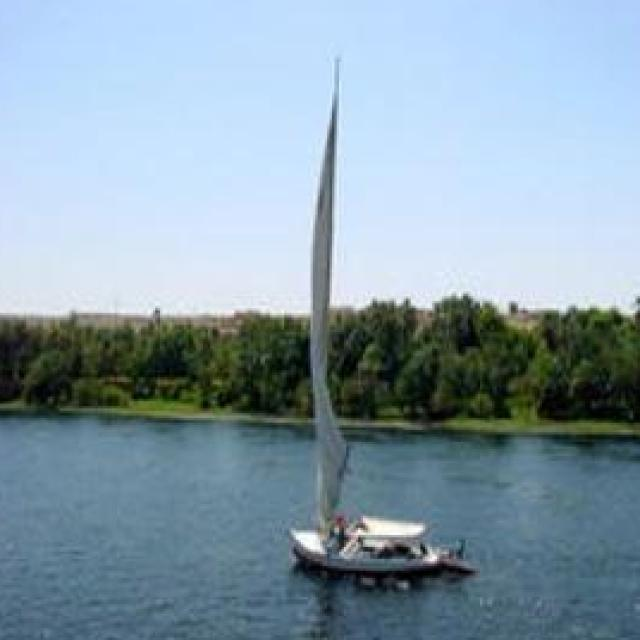sailboat: (286, 51, 509, 574)
